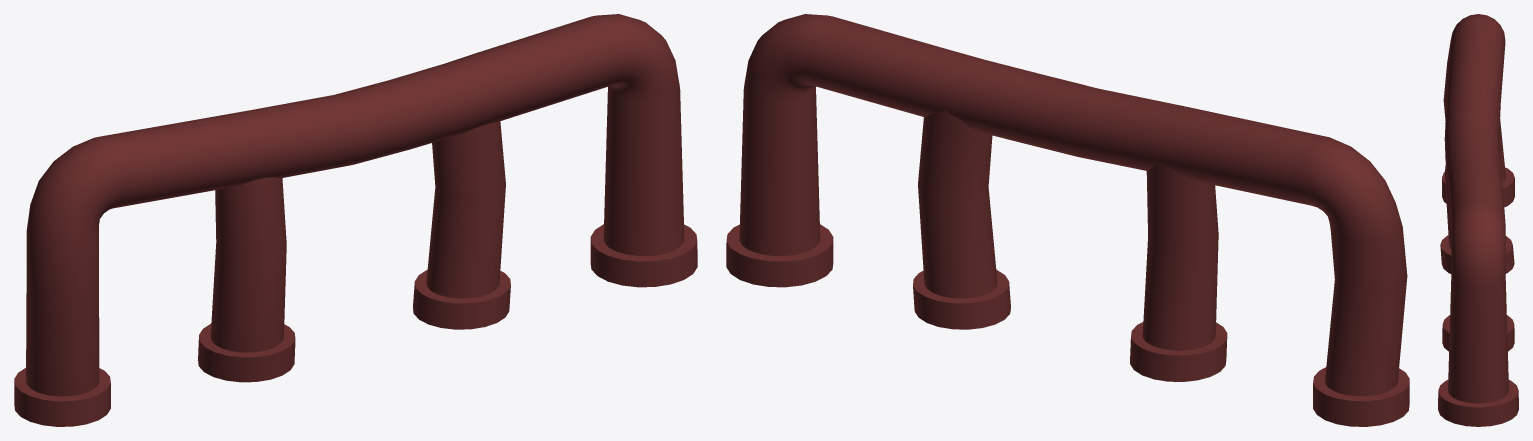
The model's file is mesh_BarandaGrande.fbx.
The picture shows the model from 3 angles, left to right: view 1: azimuth 30°, elevation 25°; view 2: azimuth 150°, elevation 25°; view 3: azimuth 270°, elevation 25°; orthographic projection. The views are drawn at different scales.
Visible parts, largest first — view 1: mesh_BarandaGrande; view 2: mesh_BarandaGrande; view 3: mesh_BarandaGrande.
Part boxes in pixels (x1,y1,x2,y2): mesh_BarandaGrande: (14,14,697,426); mesh_BarandaGrande: (726,14,1409,426); mesh_BarandaGrande: (1438,14,1518,426).
Size of the model in its own units: 258 by 94.63 by 35.93.
